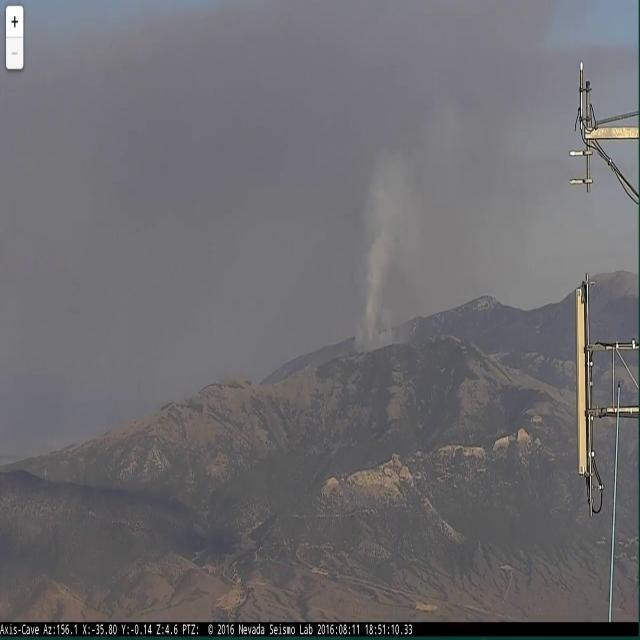smoke: (344, 87, 490, 371)
